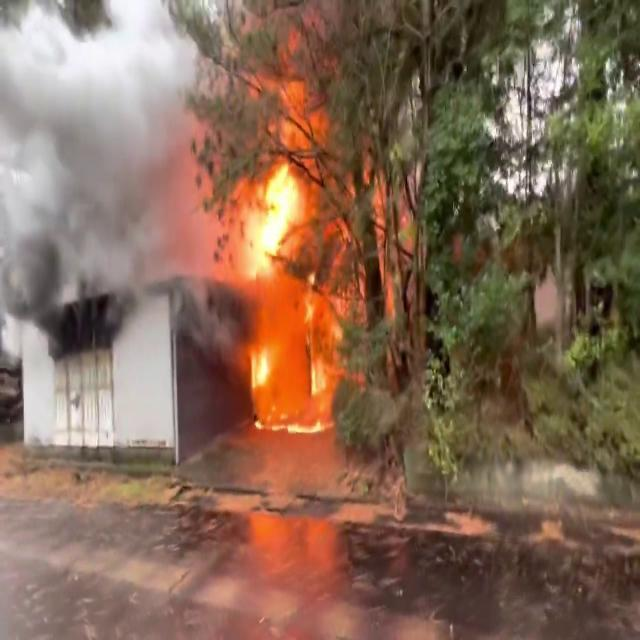Fire: (218, 152, 328, 430)
Smoke: (0, 0, 244, 353)
